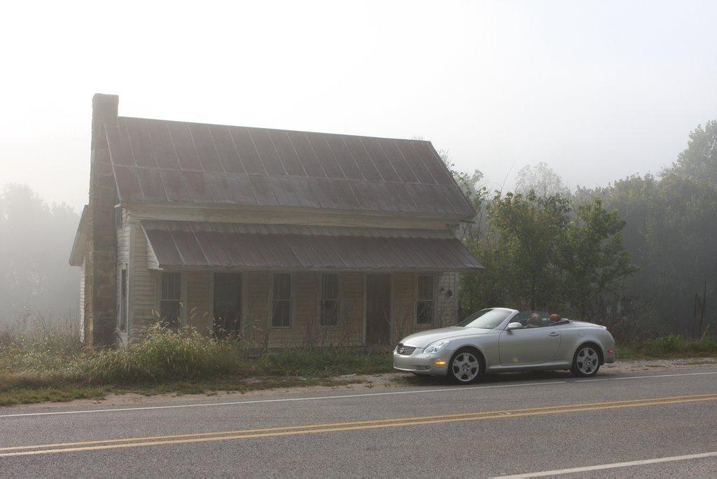car: (391, 305, 620, 387)
